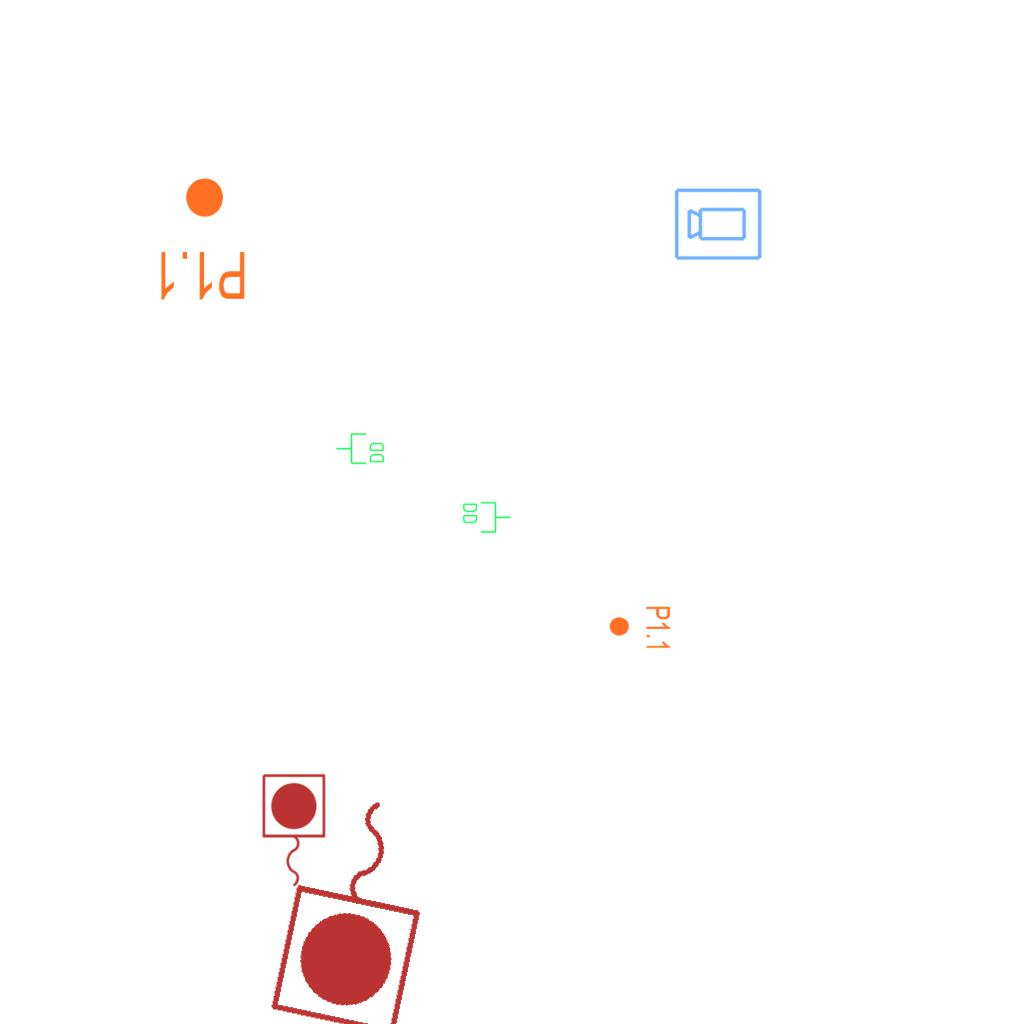Datenanschluss_zweifach: (335, 432, 386, 466), (461, 500, 512, 534)
Downlight_LED_Einbauleuchten_Flur: (155, 175, 248, 303), (608, 605, 672, 651)
KFO_Kamera_mit_Festobjektiv: (673, 185, 764, 262)
Zugtaster: (262, 776, 454, 1024), (257, 770, 329, 892)
